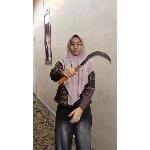Celurit: (55, 48, 117, 86)
